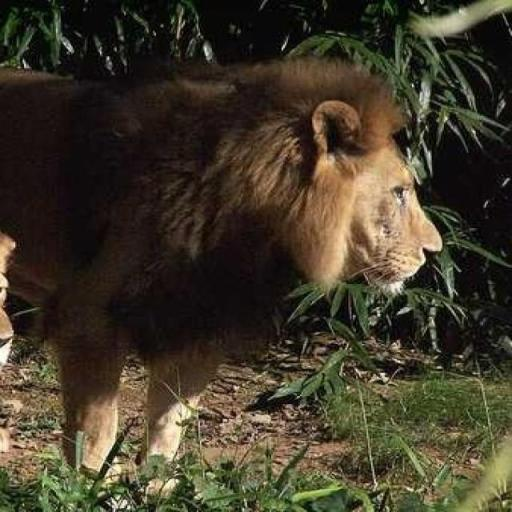Lion: (0, 52, 444, 504)
